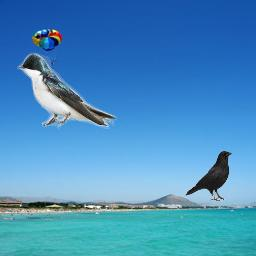Crow: (185, 150, 232, 202)
Swallow: (17, 52, 117, 129)
